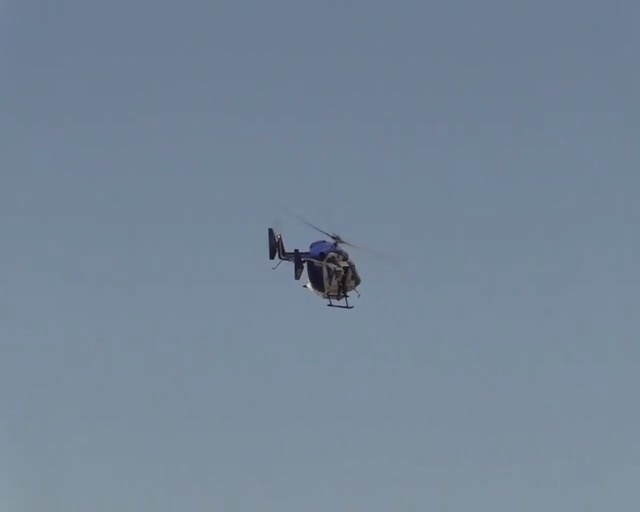HELICOPTER: (267, 203, 386, 310)
